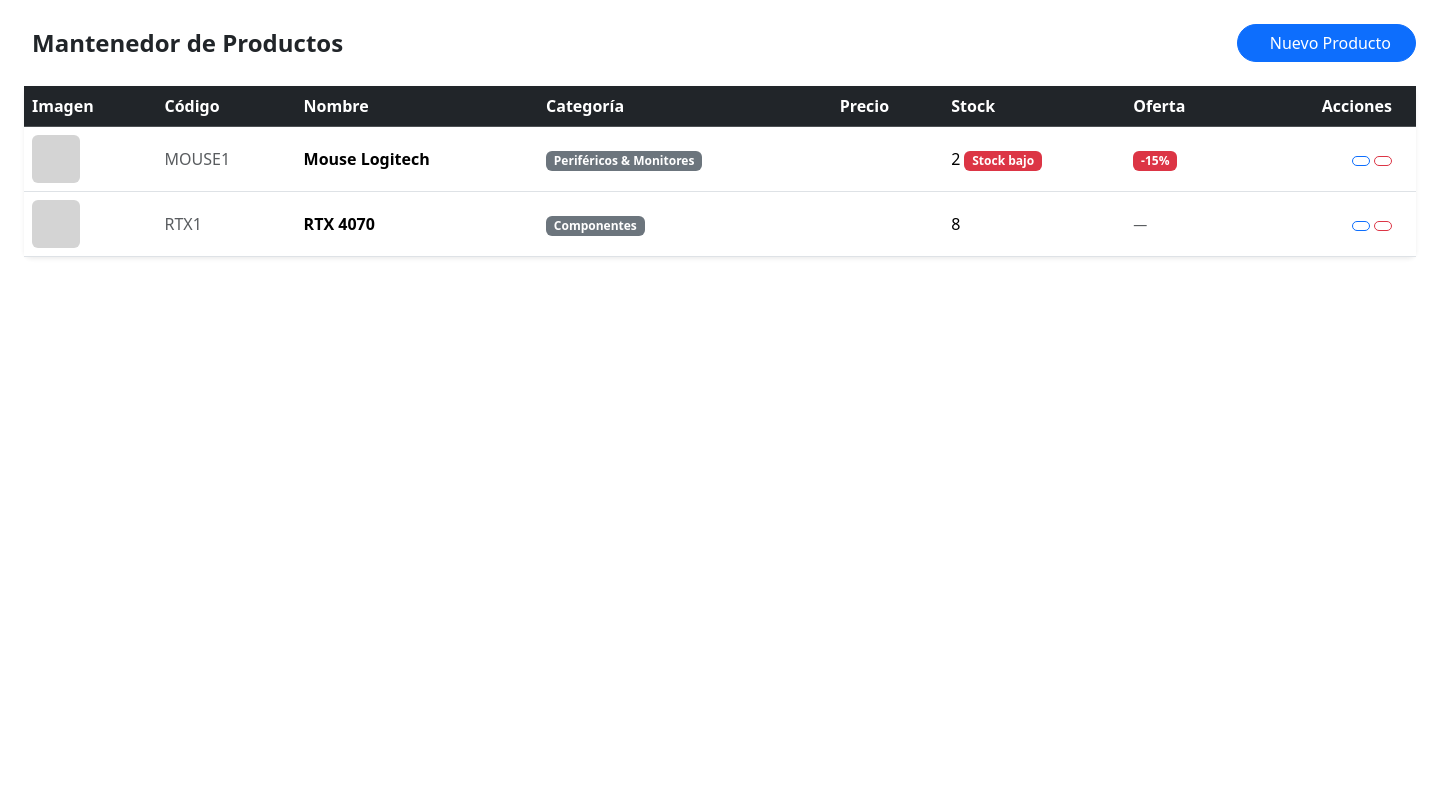
Test: AdminProductos › categorías del formulario › al editar deja seleccionada la categoría del producto
The width and height of the screenshot is (1440, 810).
Click the 2nd button: (1361, 161) [1352,156,1370,166]
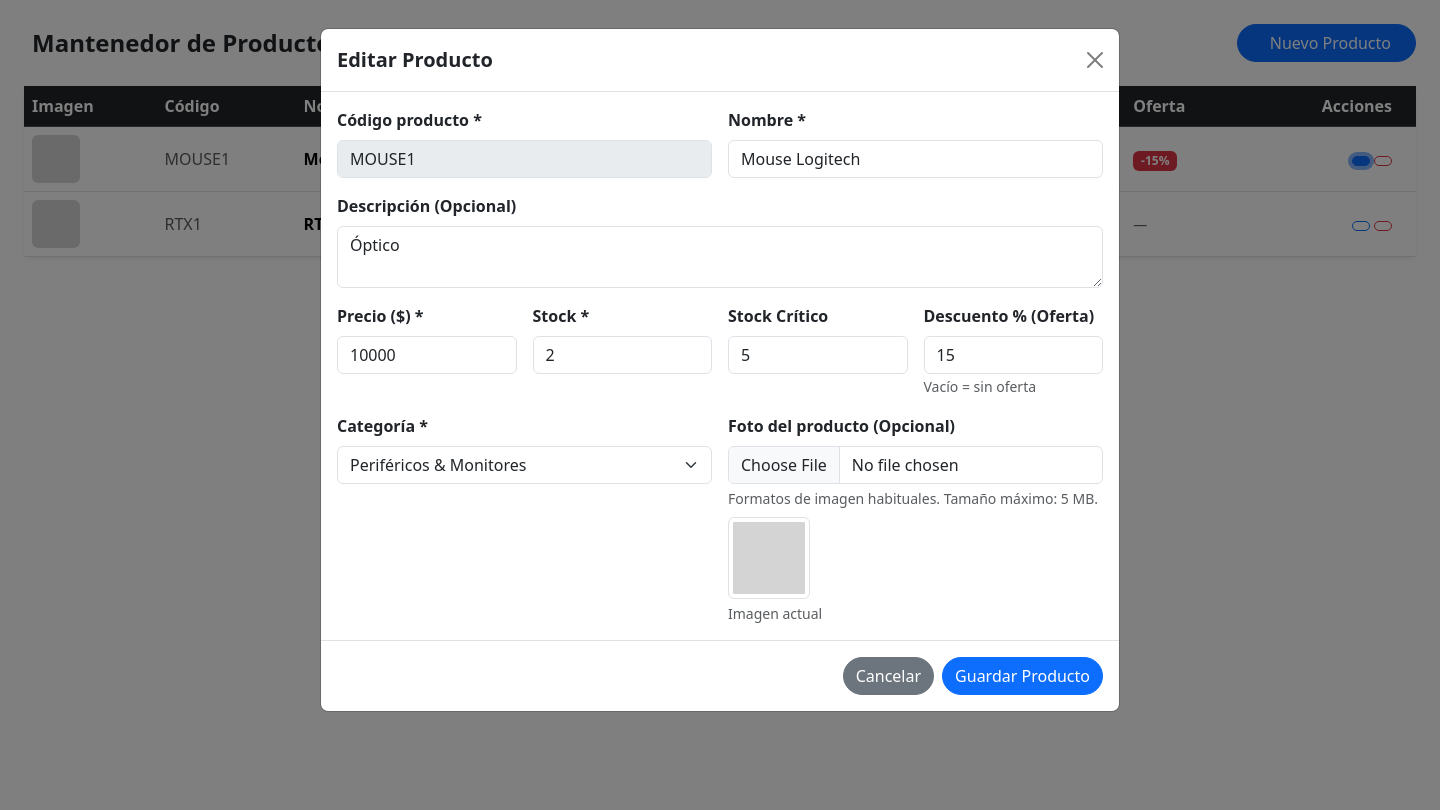
expect the dropdown shows "Periféricos & Monitores": met, box [337,446,712,484]
